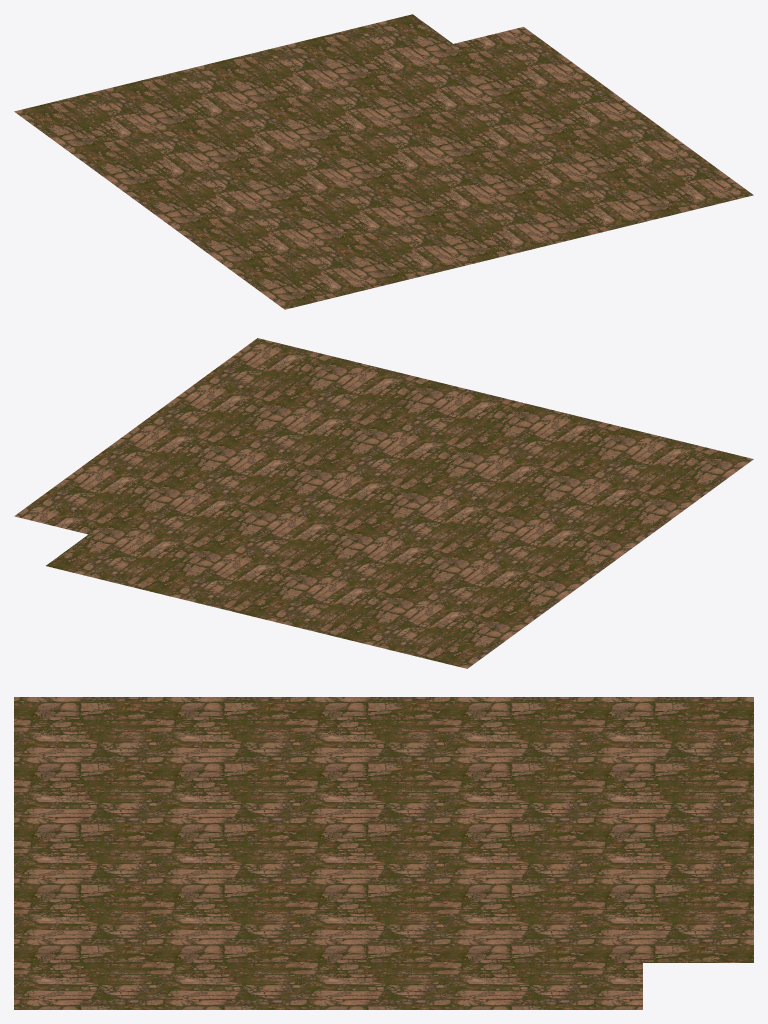
Rendered from ground_hole_2.dae.
The picture shows the model from 3 angles, top to bottom: view 1: azimuth 30°, elevation 25°; view 2: azimuth 150°, elevation 25°; view 3: azimuth 270°, elevation 25°; orthographic projection. The views are drawn at different scales.
Visible parts, largest first — view 1: Plane; view 2: Plane; view 3: Plane.
Part boxes in pixels (left/top/right/bottom): Plane: left=14, top=14, right=753, bottom=309; Plane: left=14, top=338, right=753, bottom=668; Plane: left=14, top=697, right=753, bottom=1009.
Bounding box in the file's own units: 20 × 20 × 0.
1 material, 1 textured.
